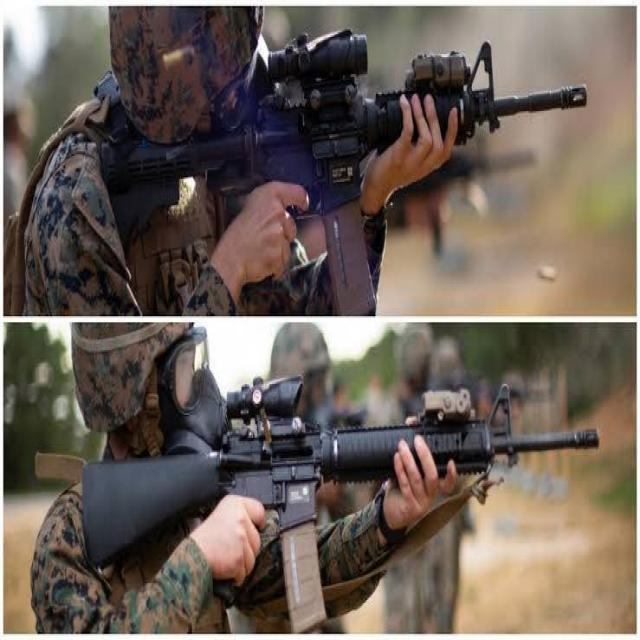m16: (83, 19, 595, 308)
